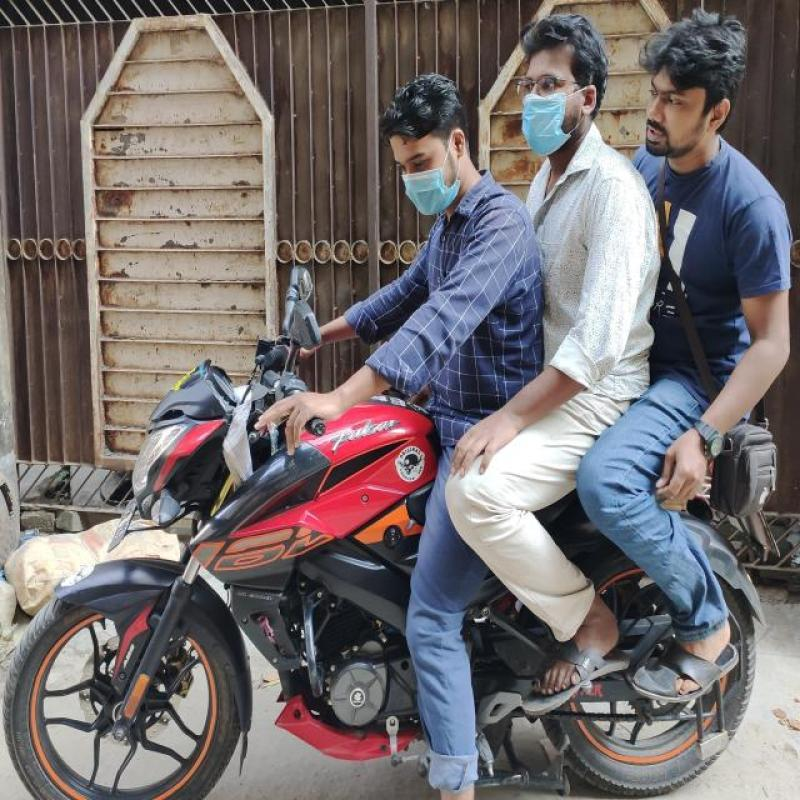nohelmet: (373, 66, 488, 217), (513, 15, 618, 164), (646, 22, 744, 167)
